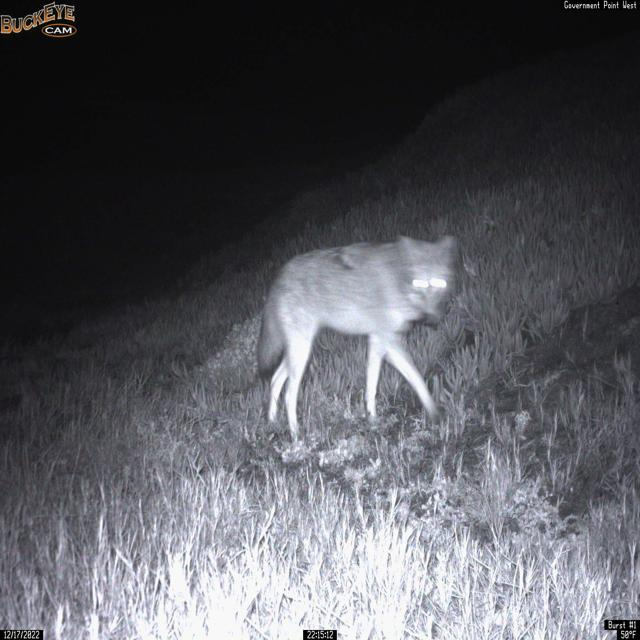coyote: (255, 232, 459, 443)
